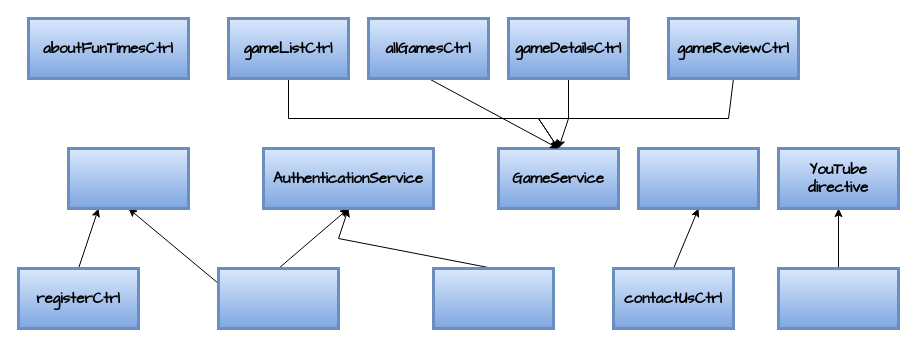
This 917x347 diagram has some shape labels left out. The centre of each missing label's shape, as x and y in pixels:
"LoginCtrl" goes at pixel 278 298.
"myAcountCtrl" goes at pixel 493 298.
"promise tracker" goes at pixel 698 178.
"UserService" goes at pixel 128 178.
"YouTubeCtrl" goes at pixel 838 298.
